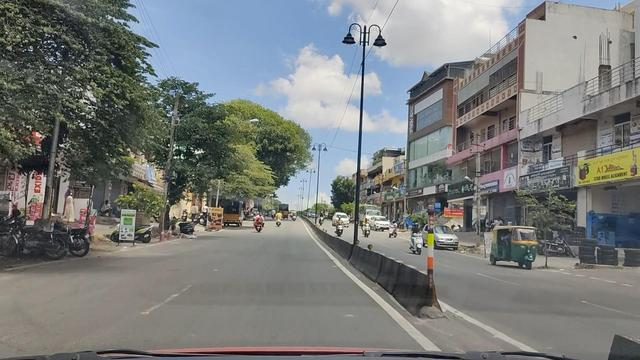LMV: (489, 222, 542, 269)
